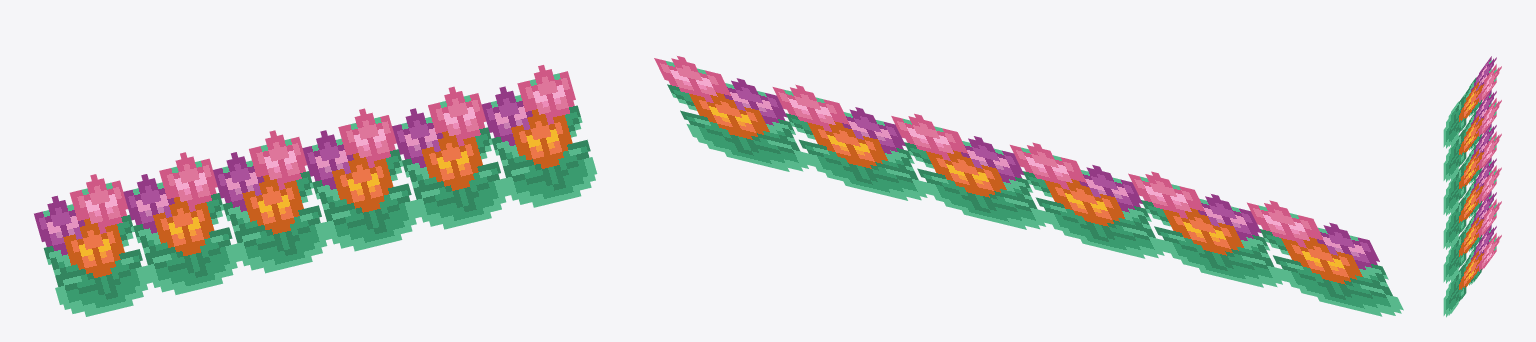
The model's file is hgss-piece-005-element-16-16.glb.
3 renders of one model, left to right at view 1: azimuth 30°, elevation 25°; view 2: azimuth 150°, elevation 25°; view 3: azimuth 270°, elevation 25°, orthographic. The views are drawn at different scales.
Size of the model in its own units: 6 by 1.54 by 1.01.
1 material, 1 textured.
